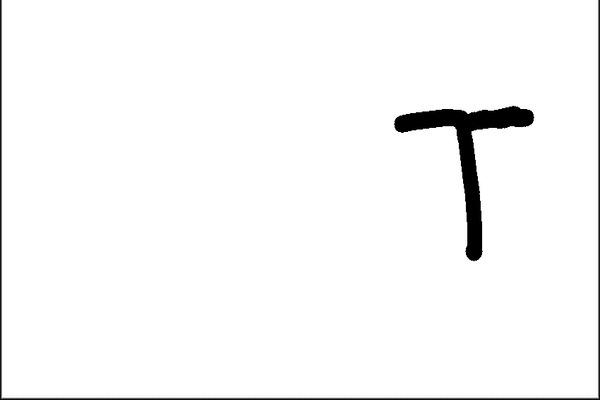T: (391, 97, 540, 264)
